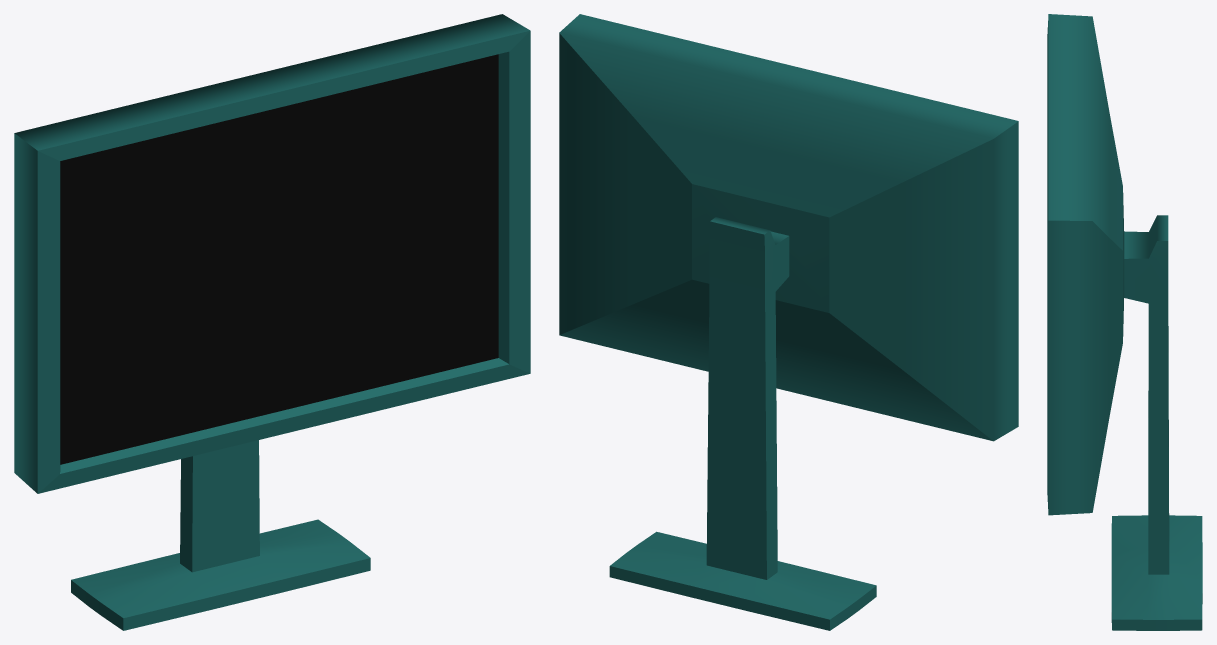
File: monitor.fbx
3 views of the same model, side by side, from view 1: azimuth 30°, elevation 25°; view 2: azimuth 150°, elevation 25°; view 3: azimuth 270°, elevation 25° (orthographic). The views are drawn at different scales.
Visible parts, largest first — view 1: monitor; view 2: monitor; view 3: monitor.
Part boxes in pixels (x1=…): monitor: x1=14, y1=14, x2=530, y2=630; monitor: x1=559, y1=14, x2=1018, y2=630; monitor: x1=1047, y1=14, x2=1202, y2=630.
Size of the model in its own units: 341 by 356 by 108.
